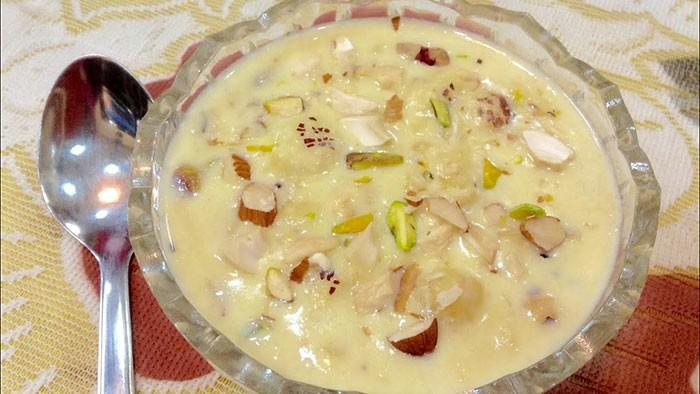Kheer: (166, 19, 622, 392)
